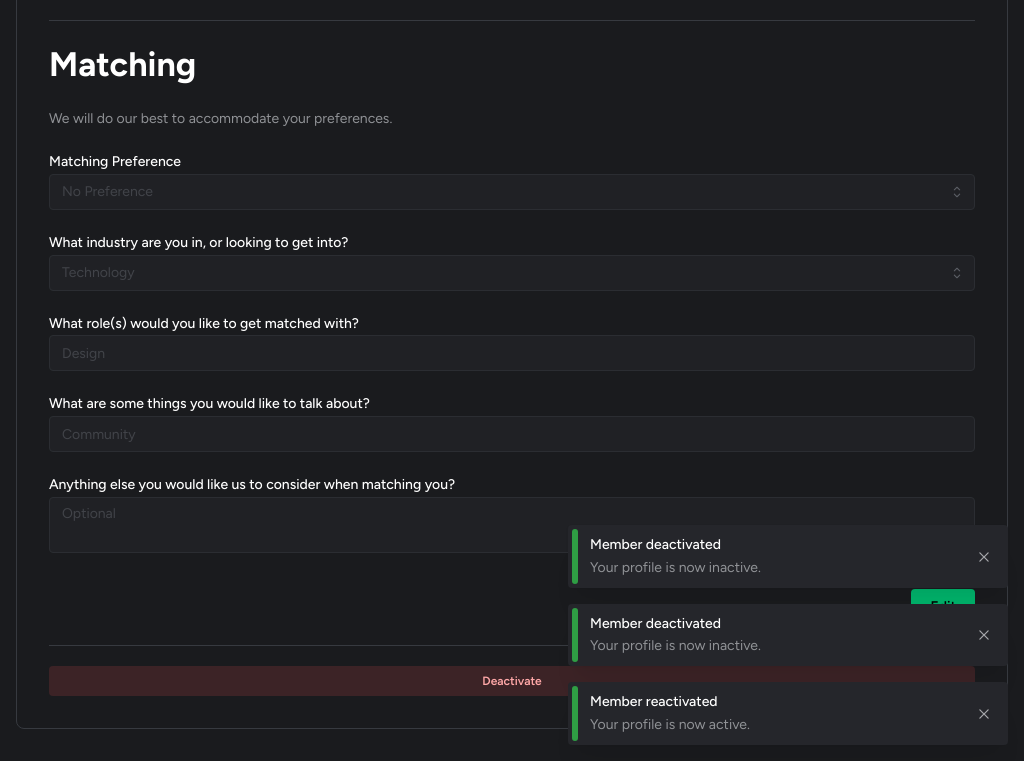
Scenario: cancelling the confirm modal makes no request
(page scrolled)
Step 1. Click the button "Deactivate" → click(512, 681), box [49,666,975,696]
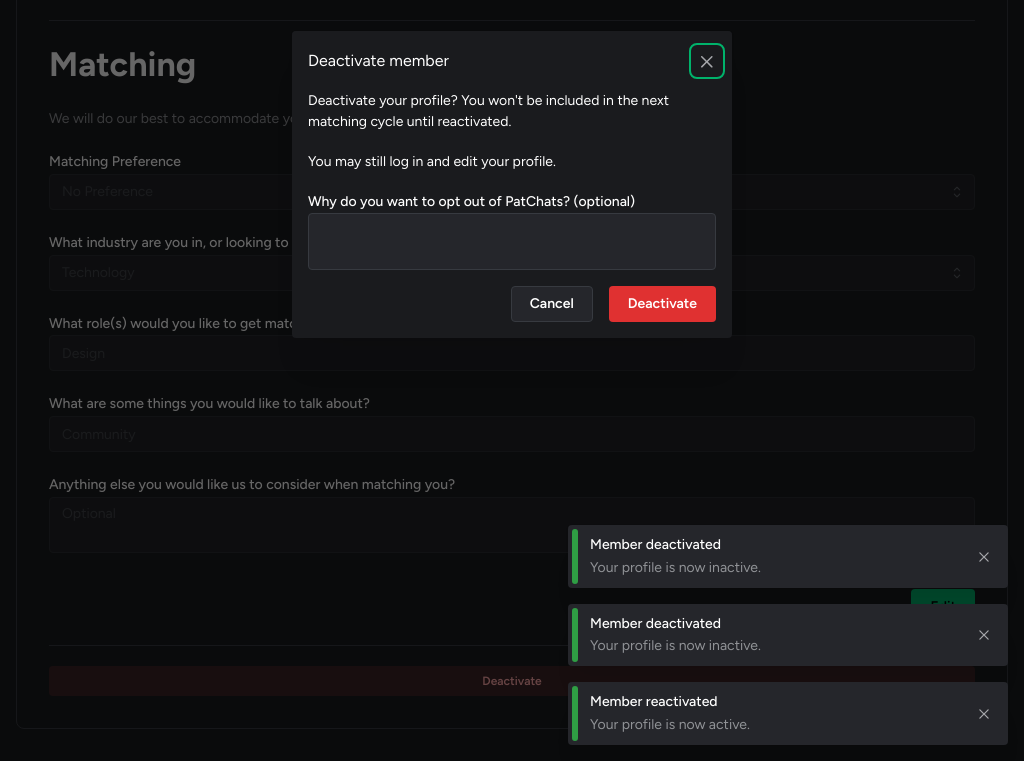
Step 2. Click the button "Cancel" → click(552, 304), box [511,286,593,322]
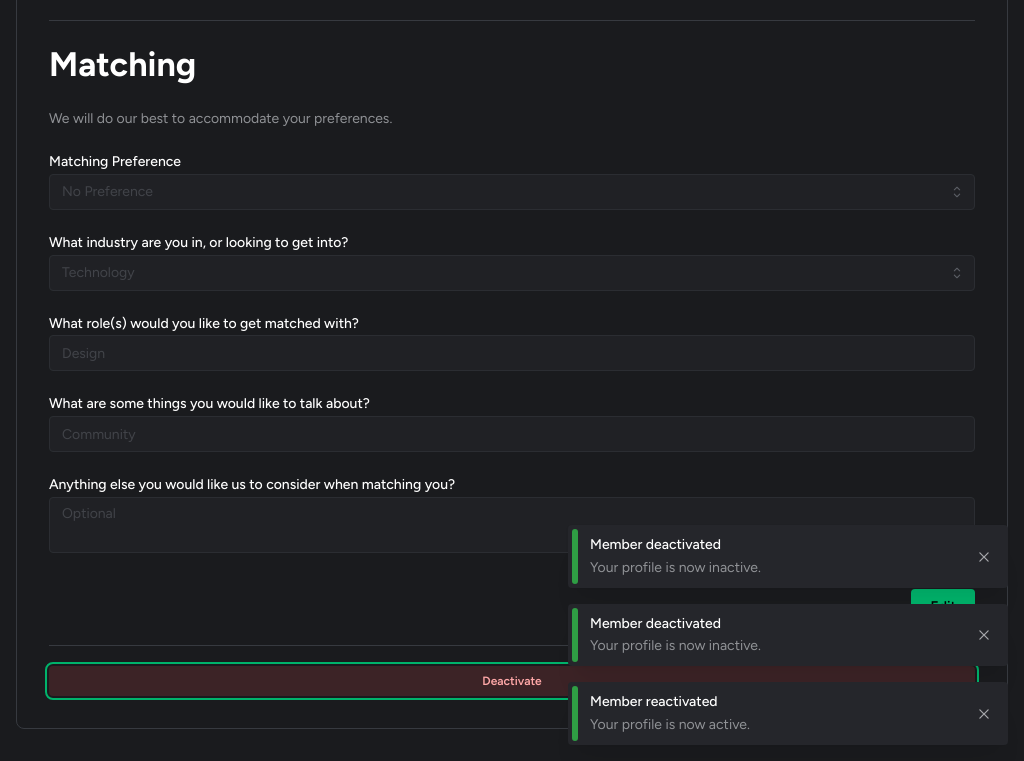
Expected: the dialog is gone
